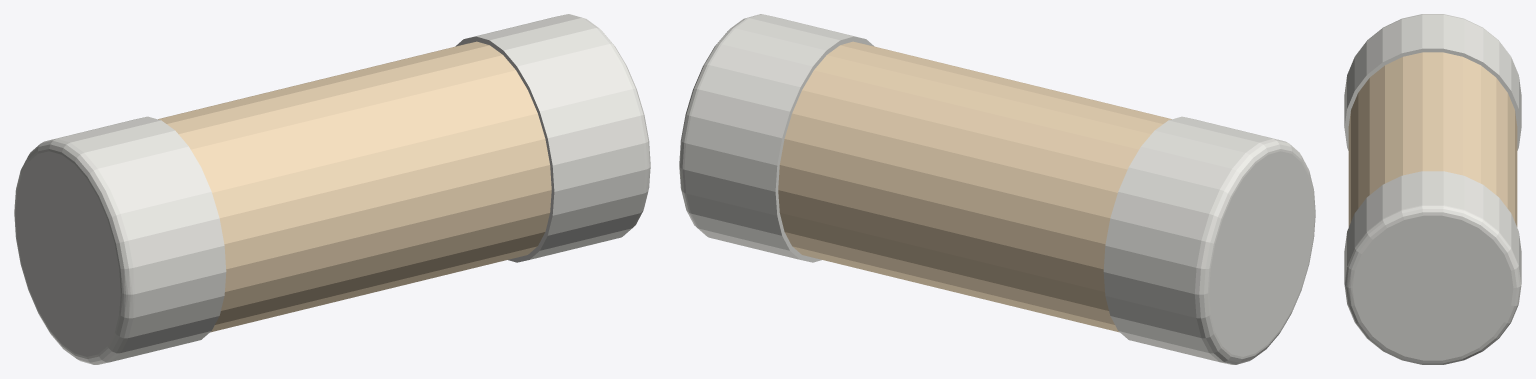
File: R_MELF_MMB-0207.glb
The picture shows the model from 3 angles, left to right: view 1: azimuth 30°, elevation 25°; view 2: azimuth 150°, elevation 25°; view 3: azimuth 270°, elevation 25°; orthographic projection. The views are drawn at different scales.
Visible parts, largest first — view 1: Shape_IndexedFaceSet.004, Shape_IndexedFaceSet.006, Shape_IndexedFaceSet.002, Shape_IndexedFaceSet.008, Shape_IndexedFaceSet.007, Shape_IndexedFaceSet.001, Shape_IndexedFaceSet.003; view 2: Shape_IndexedFaceSet.004, Shape_IndexedFaceSet.002, Shape_IndexedFaceSet.006, Shape_IndexedFaceSet.008, Shape_IndexedFaceSet.007, Shape_IndexedFaceSet.001, Shape_IndexedFaceSet.003; view 3: Shape_IndexedFaceSet.004, Shape_IndexedFaceSet, Shape_IndexedFaceSet.002, Shape_IndexedFaceSet.006, Shape_IndexedFaceSet.001, Shape_IndexedFaceSet.005, Shape_IndexedFaceSet.007.
Part boxes in pixels (bbox=[...]): Shape_IndexedFaceSet.004: bbox=[158, 41, 551, 332]; Shape_IndexedFaceSet.006: bbox=[48, 116, 226, 361]; Shape_IndexedFaceSet.002: bbox=[469, 14, 645, 259]; Shape_IndexedFaceSet.008: bbox=[15, 151, 120, 356]; Shape_IndexedFaceSet.007: bbox=[14, 138, 134, 364]; Shape_IndexedFaceSet.001: bbox=[568, 14, 650, 237]; Shape_IndexedFaceSet.003: bbox=[455, 36, 554, 262]; Shape_IndexedFaceSet.004: bbox=[778, 41, 1171, 332]; Shape_IndexedFaceSet.002: bbox=[684, 14, 857, 259]; Shape_IndexedFaceSet.006: bbox=[1103, 116, 1281, 361]; Shape_IndexedFaceSet.008: bbox=[1209, 151, 1314, 356]; Shape_IndexedFaceSet.007: bbox=[1194, 138, 1315, 364]; Shape_IndexedFaceSet.001: bbox=[679, 14, 761, 237]; Shape_IndexedFaceSet.003: bbox=[775, 36, 874, 262]; Shape_IndexedFaceSet.004: bbox=[1348, 52, 1517, 226]; Shape_IndexedFaceSet: bbox=[1352, 215, 1513, 360]; Shape_IndexedFaceSet.002: bbox=[1344, 171, 1521, 284]; Shape_IndexedFaceSet.006: bbox=[1344, 14, 1521, 127]; Shape_IndexedFaceSet.001: bbox=[1344, 205, 1521, 364]; Shape_IndexedFaceSet.005: bbox=[1344, 48, 1521, 150]; Shape_IndexedFaceSet.007: bbox=[1355, 14, 1510, 55].
Size of the model in its own units: 2.28 by 0.8598 by 0.8661.
